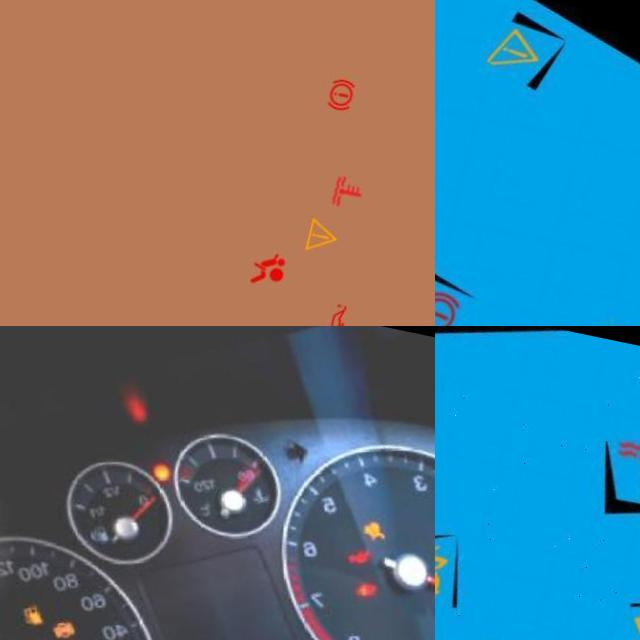High Engine Coolant Temperature: (338, 147, 385, 194)
Low fuel level: (29, 602, 63, 636)
